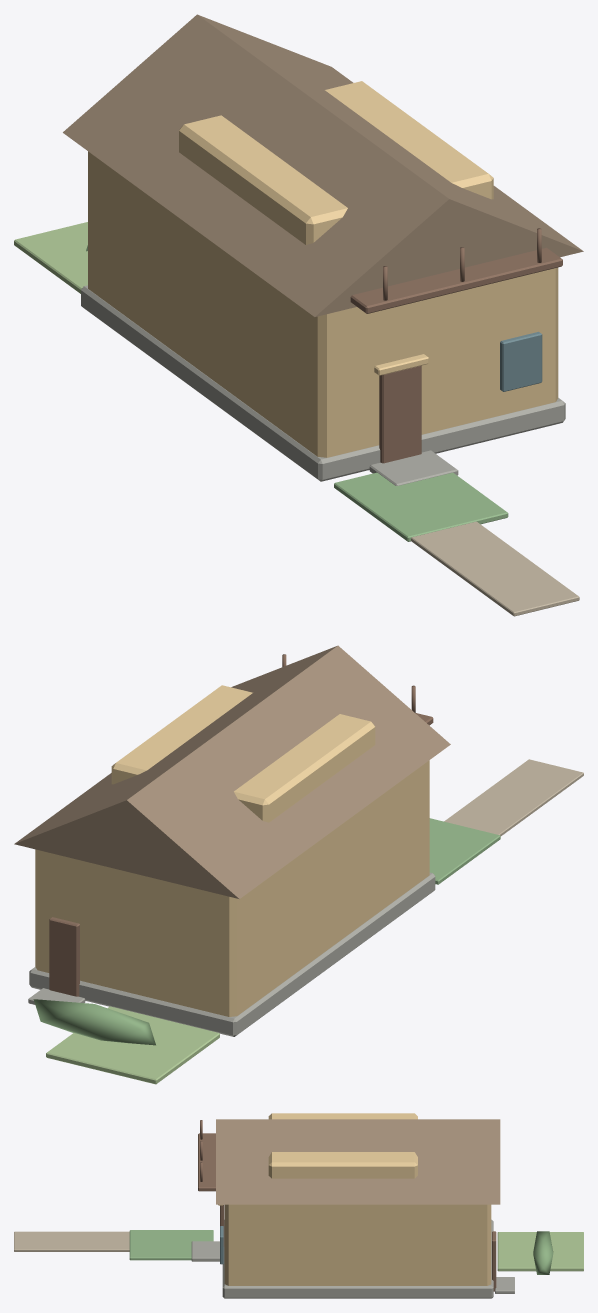
3 views of the same model, one above another, from view 1: azimuth 30°, elevation 25°; view 2: azimuth 150°, elevation 25°; view 3: azimuth 270°, elevation 25° (orthographic). The views are drawn at different scales.
Parts seen in each view (by area): view 1: MainRoof, MainBody, UpperLoft, StonePlinth, Driveway, FrontGreenVerge, FrontBalcony, PublicDoor, RearYardPatch, FrontWindow1, PublicStep; view 2: MainRoof, MainBody, UpperLoft, StonePlinth, RearYardPatch, Driveway, RearHedge, FrontGreenVerge, ServiceDoor; view 3: MainBody, MainRoof, UpperLoft, StonePlinth, RearYardPatch, Driveway, FrontGreenVerge, FrontBalcony, RearHedge, PublicStep, ServiceStep, ServiceDoor.
Part boxes in pixels (<box>): MainRoof: <box>63,14,583,316</box>; MainBody: <box>88,151,558,457</box>; UpperLoft: <box>179,81,493,244</box>; StonePlinth: <box>81,285,565,481</box>; Driveway: <box>411,521,579,616</box>; FrontGreenVerge: <box>334,472,508,541</box>; FrontBalcony: <box>350,247,562,313</box>; PublicDoor: <box>379,365,421,463</box>; RearYardPatch: <box>14,222,87,293</box>; FrontWindow1: <box>500,331,542,391</box>; PublicStep: <box>369,450,458,485</box>; MainRoof: <box>14,645,450,898</box>; MainBody: <box>35,760,429,1016</box>; UpperLoft: <box>111,685,375,822</box>; StonePlinth: <box>29,872,435,1036</box>; RearYardPatch: <box>46,1006,219,1084</box>; Driveway: <box>444,759,583,836</box>; RearHedge: <box>33,999,155,1045</box>; FrontGreenVerge: <box>429,818,500,884</box>; ServiceDoor: <box>49,917,79,996</box>; MainBody: <box>224,1204,491,1285</box>; MainRoof: <box>216,1119,500,1204</box>; UpperLoft: <box>268,1113,417,1178</box>; StonePlinth: <box>222,1219,493,1298</box>; RearYardPatch: <box>497,1232,583,1271</box>; Driveway: <box>14,1231,129,1251</box>; FrontGreenVerge: <box>129,1230,213,1260</box>; FrontBalcony: <box>198,1133,215,1191</box>; RearHedge: <box>533,1231,553,1274</box>; PublicStep: <box>191,1241,219,1261</box>; ServiceStep: <box>495,1277,514,1293</box>; ServiceDoor: <box>492,1231,496,1291</box>.
Size of the model in its own units: 7.1 by 6.52 by 23.09.
